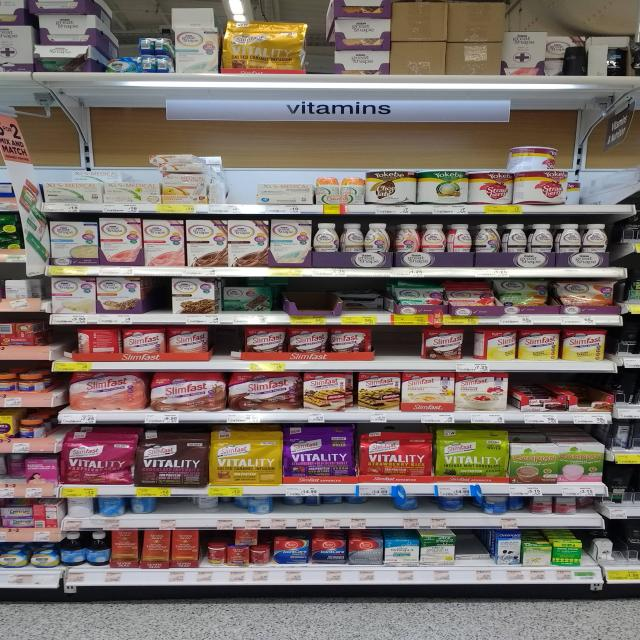void: (458, 530, 499, 584), (276, 288, 330, 323), (227, 158, 255, 214), (380, 329, 416, 369), (210, 327, 242, 370), (160, 499, 193, 528)
